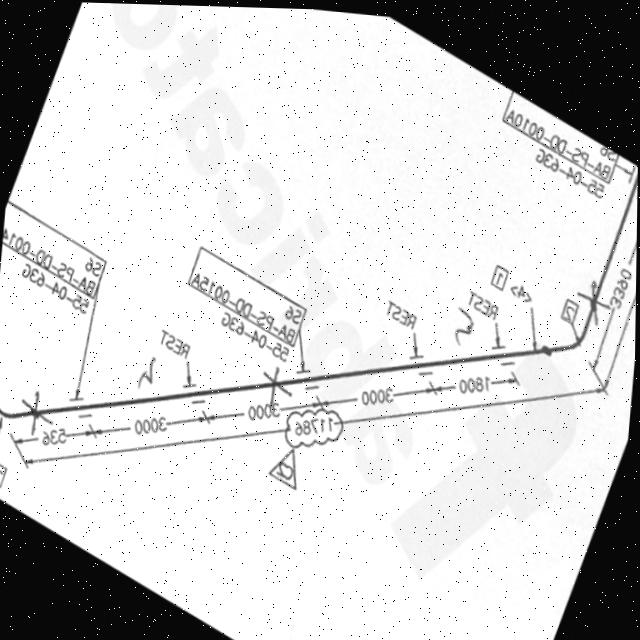Item number: (184, 238, 312, 350), (493, 83, 622, 181), (2, 190, 111, 305), (489, 256, 511, 287), (559, 289, 580, 321), (0, 460, 10, 491)
Measrement: (19, 375, 608, 472), (588, 202, 638, 374), (315, 375, 436, 408), (200, 391, 324, 422), (89, 406, 210, 437), (428, 364, 523, 393), (8, 422, 96, 449)
Pipeline: (0, 156, 638, 424)
Symbol: (534, 280, 605, 365)
other: (215, 305, 292, 366), (530, 140, 608, 200), (462, 282, 502, 322), (380, 290, 419, 331)
